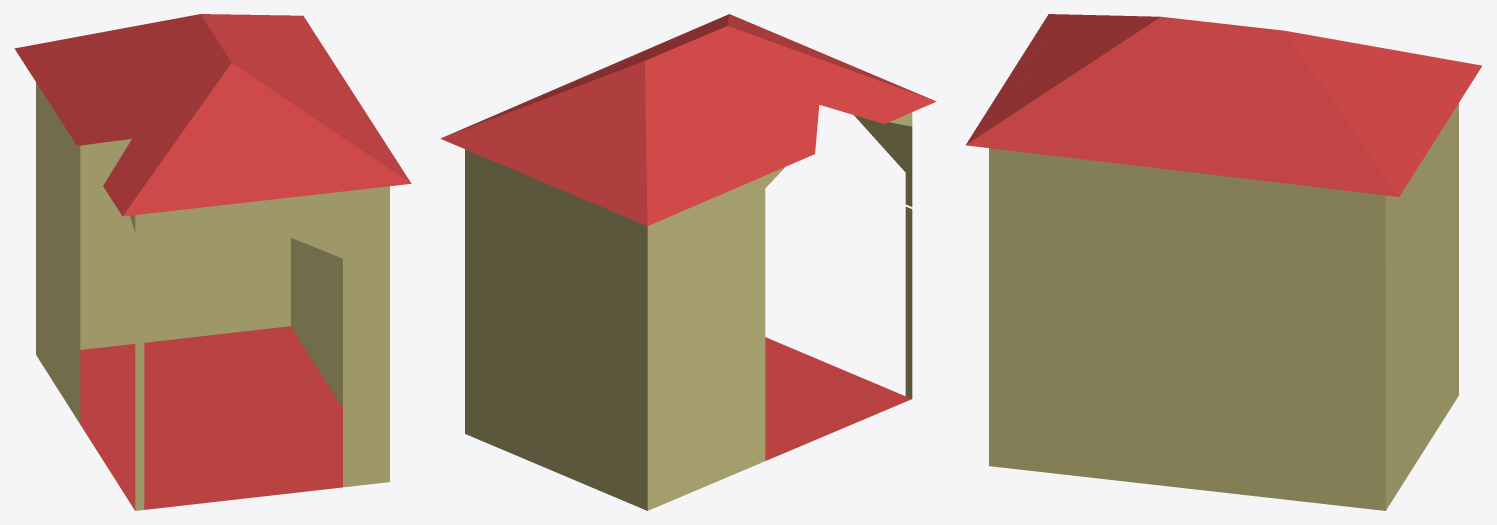
3 renders of one model, left to right at view 1: azimuth 30°, elevation 25°; view 2: azimuth 150°, elevation 25°; view 3: azimuth 270°, elevation 25°, orthographic. The views are drawn at different scales.
Size of the model in its own units: 16.72 by 20.25 by 17.65.
